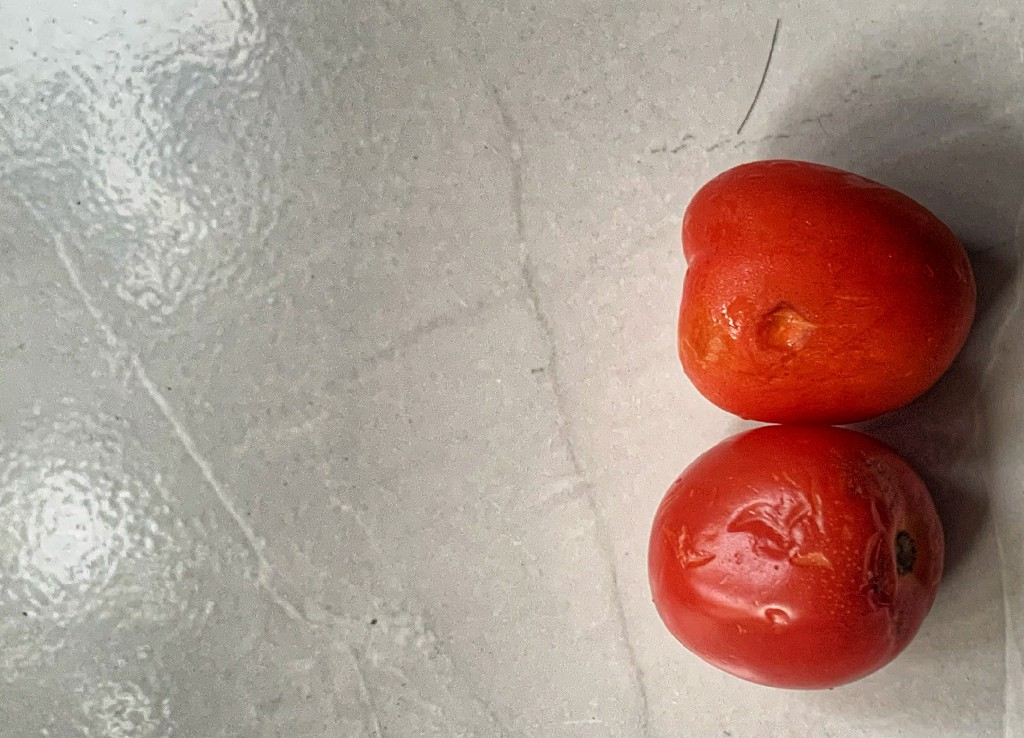NG: (633, 428, 952, 695), (671, 155, 985, 426)
